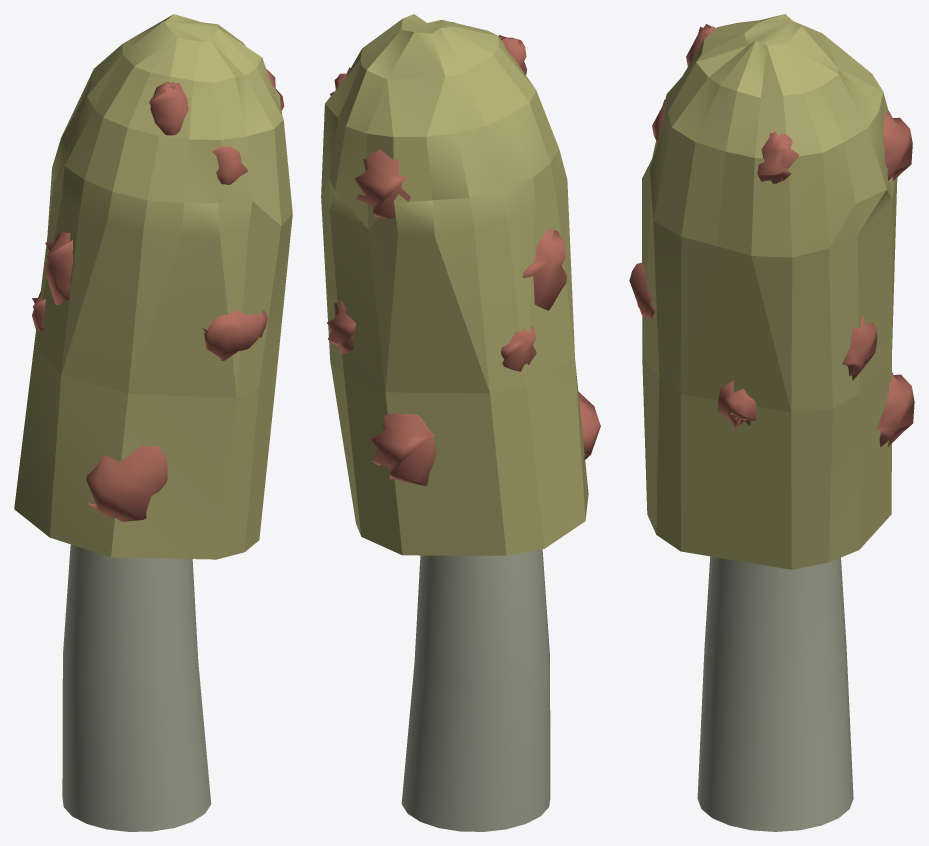
The model's file is spore8.fbx.
The picture shows the model from 3 angles, left to right: view 1: azimuth 30°, elevation 25°; view 2: azimuth 150°, elevation 25°; view 3: azimuth 270°, elevation 25°; orthographic projection. The views are drawn at different scales.
Visible parts, largest first — view 1: pSphere16; view 2: pSphere16; view 3: pSphere16.
Part boxes in pixels (bbox=[...]): pSphere16: bbox=[14, 14, 292, 831]; pSphere16: bbox=[321, 14, 600, 831]; pSphere16: bbox=[629, 14, 914, 831].
Bounding box in the file's own units: 3.16 × 9.8 × 3.07.
